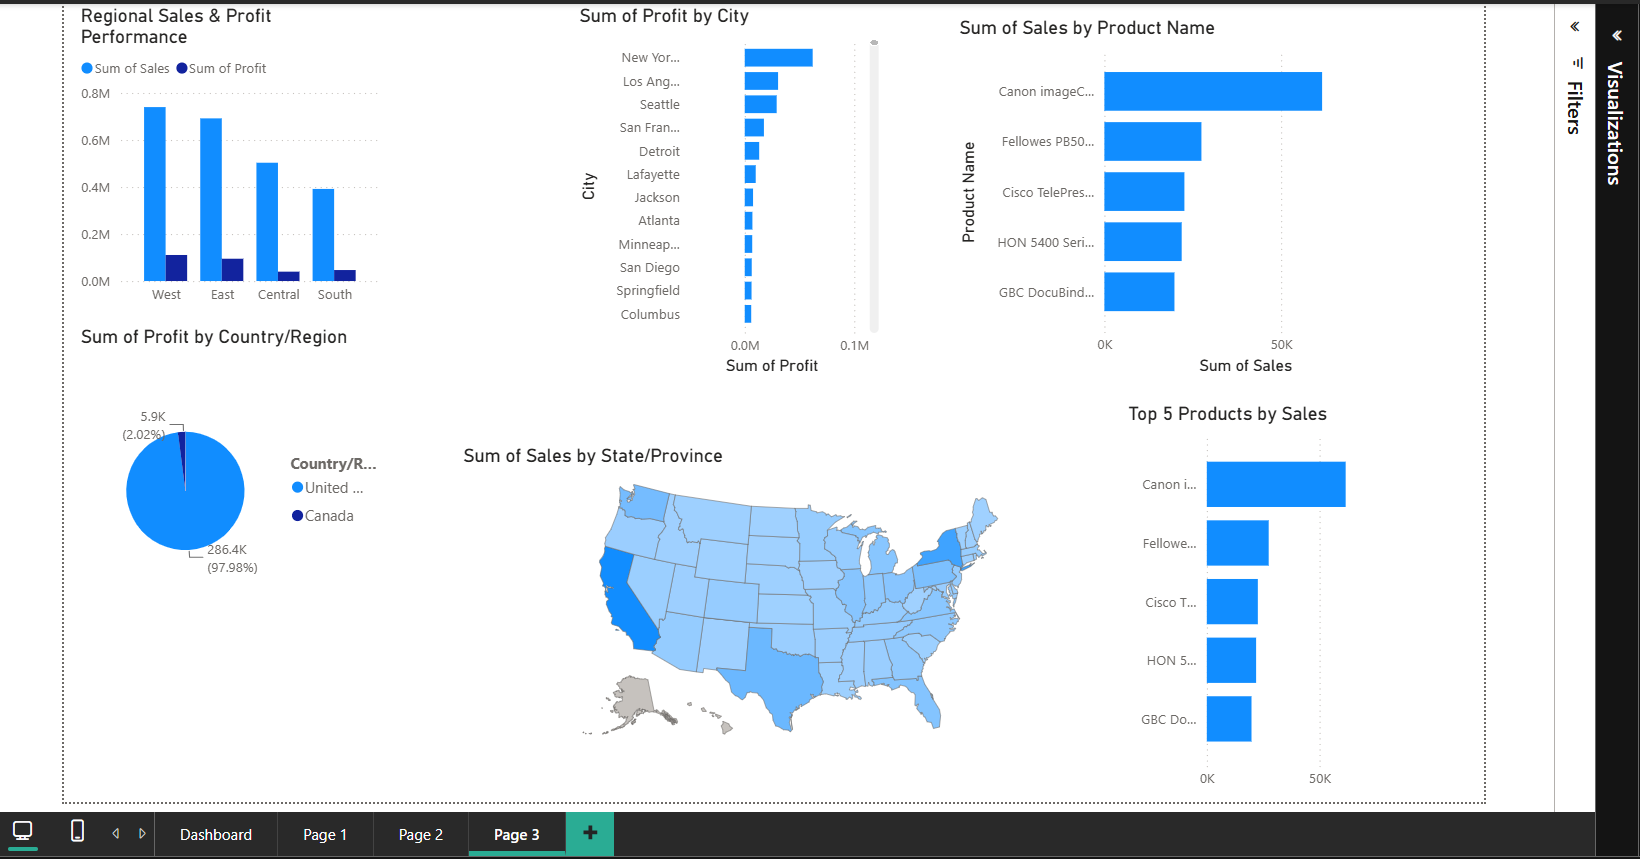

Layout of this report page (visuals, bound fields, positions):
{"tool":"powerbi","page":{"name":"Page 3","canvas":[1280,720],"ordinal":3},"visuals":[{"type":"clusteredColumnChart","title":"Regional Sales & Profit Performance","fields":{"Y":["Sum(samplesuperstore.Sales)","Sum(samplesuperstore.Profit)"],"Category":["samplesuperstore.Region"]},"box":[10,0,280,280],"z":0},{"type":"pieChart","fields":{"Category":["samplesuperstore.Country/Region"],"Y":["Sum(samplesuperstore.Profit)"]},"box":[10,290,280,280],"z":1000},{"type":"clusteredBarChart","fields":{"Y":["Sum(samplesuperstore.Profit)"],"Category":["samplesuperstore.City"]},"box":[460.3,0,279.9,339.6],"z":2000},{"type":"shapeMap","fields":{"Value":["Sum(samplesuperstore.Sales)"],"Category":["samplesuperstore.State/Province"]},"box":[354.9,396.3,600.1,279.4],"z":4000},{"type":"clusteredBarChart","fields":{"Y":["Sum(samplesuperstore.Sales)"],"Category":["samplesuperstore.Product Name"]},"box":[802.5,11.3,405.8,328],"z":4001},{"type":"clusteredBarChart","title":"Top 5 Products by Sales","fields":{"Y":["Sum(samplesuperstore.Sales)"],"Category":["samplesuperstore.Product Name"]},"box":[954.7,359.6,253.6,357.3],"z":4002}]}

Visuals, with their boxes on the page's 1280x720 design canvas (x1, y1, x2, y2). These are canvas units, not pixel positions in the 1640x859 screenshot, which may show the page scaled, cropped or inside an application window:
"Regional Sales & Profit Performance" clusteredColumnChart: left=10, top=0, right=290, bottom=280
pieChart - samplesuperstore.Country/Region x Sum(samplesuperstore.Profit): left=10, top=290, right=290, bottom=570
clusteredBarChart - Sum(samplesuperstore.Profit) x samplesuperstore.City: left=460, top=0, right=740, bottom=340
shapeMap - Sum(samplesuperstore.Sales) x samplesuperstore.State/Province: left=355, top=396, right=955, bottom=676
clusteredBarChart - Sum(samplesuperstore.Sales) x samplesuperstore.Product Name: left=802, top=11, right=1208, bottom=339
"Top 5 Products by Sales" clusteredBarChart: left=955, top=360, right=1208, bottom=717
